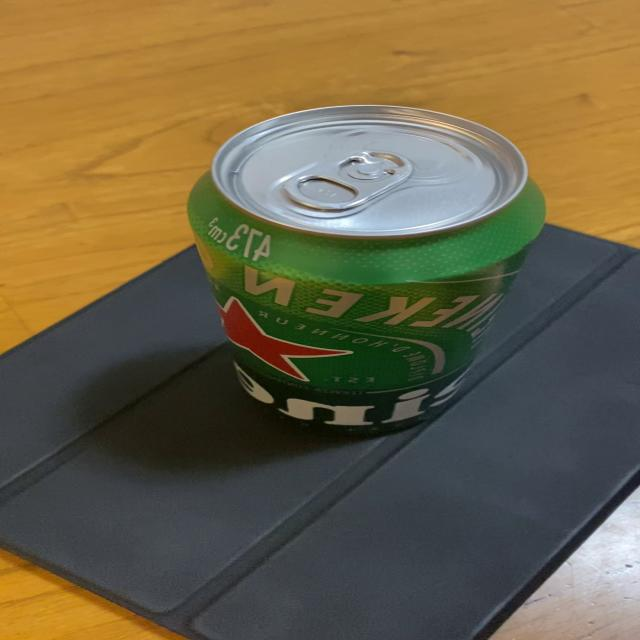metal: (186, 104, 548, 432)
